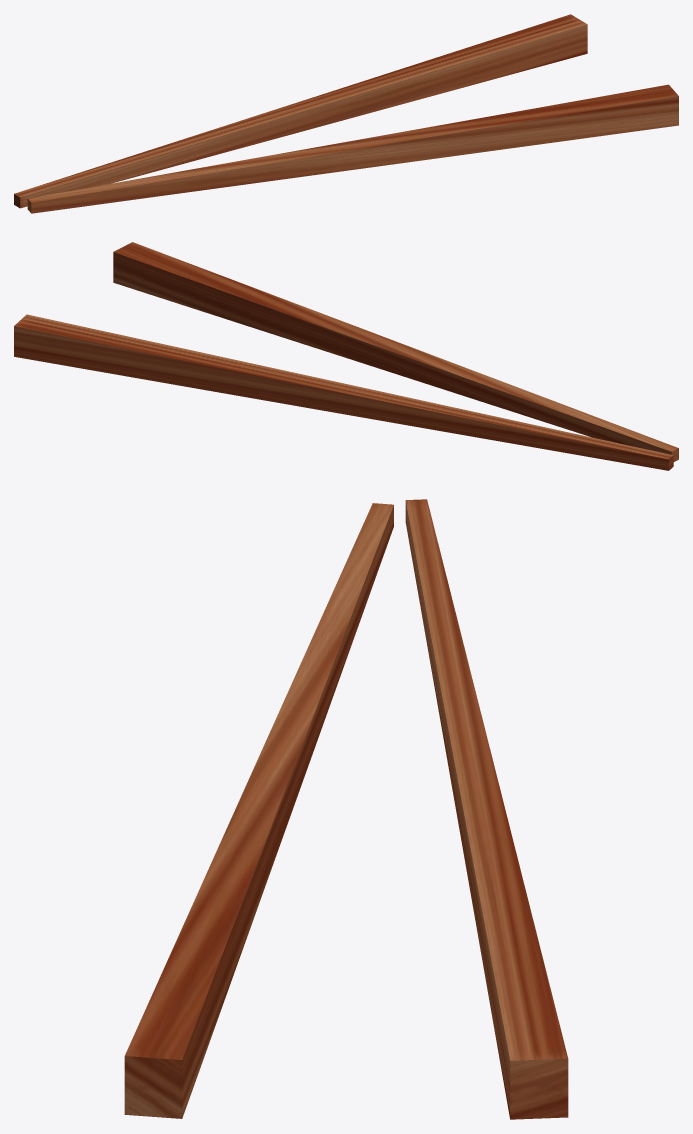
File: sticks.obj
The picture shows the model from 3 angles, top to bottom: view 1: azimuth 30°, elevation 25°; view 2: azimuth 150°, elevation 25°; view 3: azimuth 270°, elevation 25°; orthographic projection. The views are drawn at different scales.
Parts seen in each view (by area): view 1: sticks; view 2: sticks; view 3: sticks.
Part boxes in pixels (x1,y1,x2,y2): sticks: [14, 14, 678, 213]; sticks: [14, 242, 678, 470]; sticks: [124, 499, 568, 1119].
Size of the model in its own units: 52.82 by 2.5 by 17.07.
